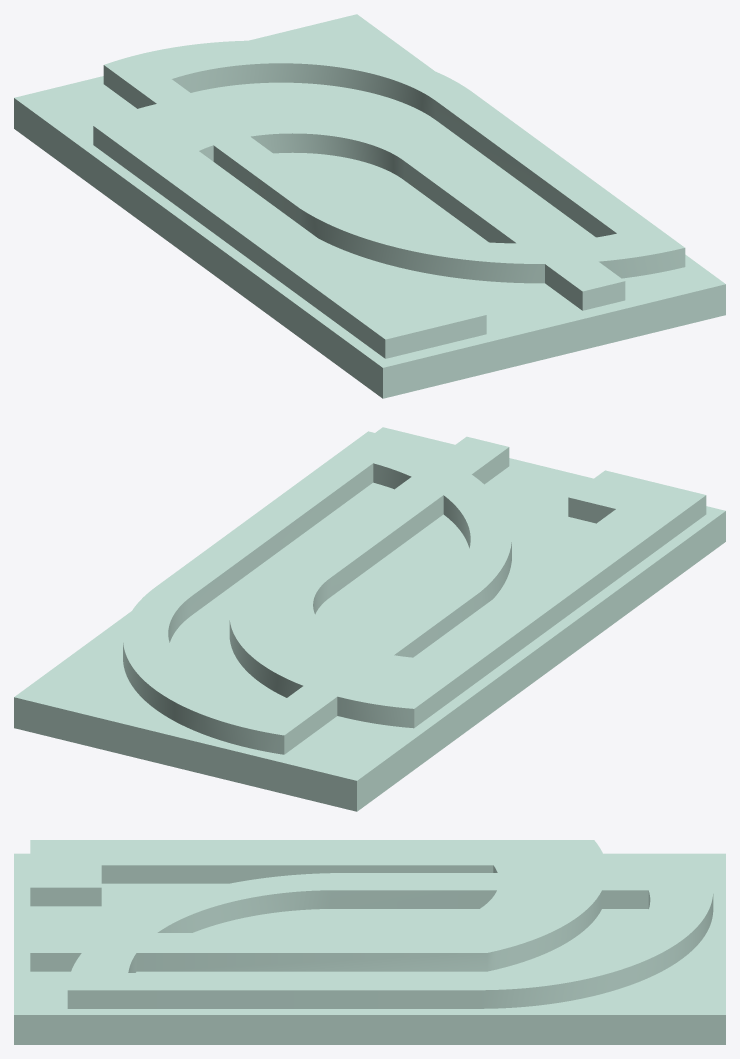
The picture shows the model from 3 angles, top to bottom: view 1: azimuth 30°, elevation 25°; view 2: azimuth 150°, elevation 25°; view 3: azimuth 270°, elevation 25°; orthographic projection. The views are drawn at different scales.
Parts seen in each view (by area): view 1: Renderer Node; view 2: Renderer Node; view 3: Renderer Node.
Boxes of the visible parts, <box> form: Renderer Node: <box>14,14,725,398</box>; Renderer Node: <box>14,427,725,811</box>; Renderer Node: <box>14,840,725,1044</box>.
Size of the model in its own units: 0.7256 by 0.1016 by 1.35.
